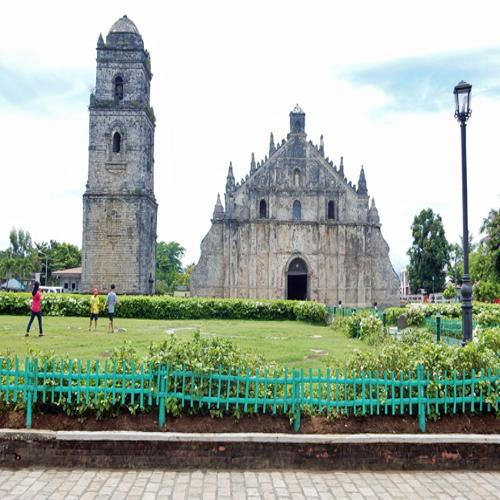Paoay Church: (70, 8, 416, 328)
